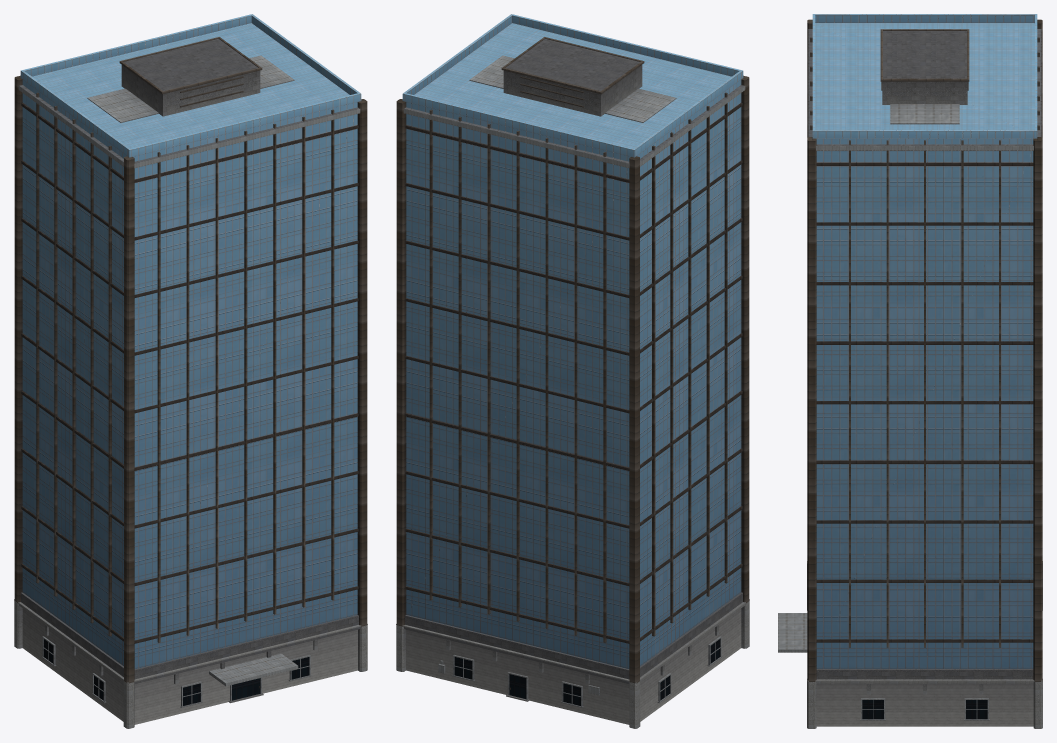
The model's file is cass-avenue-offices_lod0.gltf.
3 renders of one model, left to right at view 1: azimuth 30°, elevation 25°; view 2: azimuth 150°, elevation 25°; view 3: azimuth 270°, elevation 25°, orthographic. The views are drawn at different scales.
Visible parts, largest first — view 1: cass-avenue-offices_upper, cass-avenue-offices__v4_metal_detail, cass-avenue-offices__v4_stone_detail, cass-avenue-offices_base, cass-avenue-offices__cornice, cass-avenue-offices__parapet_front, cass-avenue-offices__parapet_back, cass-avenue-offices__canopy, cass-avenue-offices_fen_07-glass-curtain-blue_1_t, cass-avenue-offices__solar_a, cass-avenue-offices__parapet_left, cass-avenue-offices__parapet_right (+2 smaller); view 2: cass-avenue-offices_upper, cass-avenue-offices__v4_metal_detail, cass-avenue-offices__v4_stone_detail, cass-avenue-offices_base, cass-avenue-offices__cornice, cass-avenue-offices__parapet_back, cass-avenue-offices__parapet_front, cass-avenue-offices_fen_07-glass-curtain-blue_1_t, cass-avenue-offices__solar_a, cass-avenue-offices_fen_14-steel-panel_0, cass-avenue-offices__parapet_left, cass-avenue-offices__parapet_right (+1 smaller); view 3: cass-avenue-offices_upper, cass-avenue-offices__v4_metal_detail, cass-avenue-offices__v4_stone_detail, cass-avenue-offices_base, cass-avenue-offices__cornice, cass-avenue-offices__parapet_left, cass-avenue-offices__parapet_right, cass-avenue-offices__solar_b, cass-avenue-offices__canopy, cass-avenue-offices_fen_07-glass-curtain-blue_1_t, cass-avenue-offices__parapet_front, cass-avenue-offices_fen_14-steel-panel_0.
Part boxes in pixels (x1,y1,x2,y2): cass-avenue-offices_upper: [22, 23, 357, 668]; cass-avenue-offices__v4_metal_detail: [14, 37, 367, 683]; cass-avenue-offices__v4_stone_detail: [14, 38, 367, 728]; cass-avenue-offices_base: [22, 608, 357, 724]; cass-avenue-offices__cornice: [18, 85, 360, 168]; cass-avenue-offices__parapet_front: [128, 92, 361, 157]; cass-avenue-offices__parapet_back: [20, 14, 253, 78]; cass-avenue-offices__canopy: [209, 653, 298, 686]; cass-avenue-offices_fen_07-glass-curtain-blue_1_t: [43, 639, 309, 705]; cass-avenue-offices__solar_a: [87, 88, 158, 122]; cass-avenue-offices__parapet_left: [22, 71, 129, 156]; cass-avenue-offices__parapet_right: [251, 15, 359, 94]; cass-avenue-offices_upper: [406, 23, 741, 668]; cass-avenue-offices__v4_metal_detail: [396, 37, 749, 683]; cass-avenue-offices__v4_stone_detail: [396, 38, 749, 728]; cass-avenue-offices_base: [406, 608, 741, 724]; cass-avenue-offices__cornice: [403, 85, 745, 168]; cass-avenue-offices__parapet_back: [402, 92, 635, 157]; cass-avenue-offices__parapet_front: [510, 14, 743, 78]; cass-avenue-offices_fen_07-glass-curtain-blue_1_t: [454, 639, 720, 705]; cass-avenue-offices__solar_a: [605, 88, 676, 122]; cass-avenue-offices_fen_14-steel-panel_0: [438, 636, 722, 707]; cass-avenue-offices__parapet_left: [634, 71, 741, 156]; cass-avenue-offices__parapet_right: [404, 15, 512, 94]; cass-avenue-offices_upper: [815, 23, 1034, 668]; cass-avenue-offices__v4_metal_detail: [807, 19, 1042, 681]; cass-avenue-offices__v4_stone_detail: [807, 31, 1042, 728]; cass-avenue-offices_base: [816, 684, 1033, 726]; cass-avenue-offices__cornice: [808, 29, 1041, 150]; cass-avenue-offices__parapet_left: [815, 14, 1034, 22]; cass-avenue-offices__parapet_right: [815, 130, 1034, 138]; cass-avenue-offices__solar_b: [890, 104, 959, 124]; cass-avenue-offices__canopy: [778, 613, 807, 652]; cass-avenue-offices_fen_07-glass-curtain-blue_1_t: [862, 700, 987, 719]; cass-avenue-offices__parapet_front: [812, 14, 815, 138]; cass-avenue-offices_fen_14-steel-panel_0: [860, 698, 989, 720].
Bounding box in the file's own units: 33.27 × 78.3 × 30.64.
